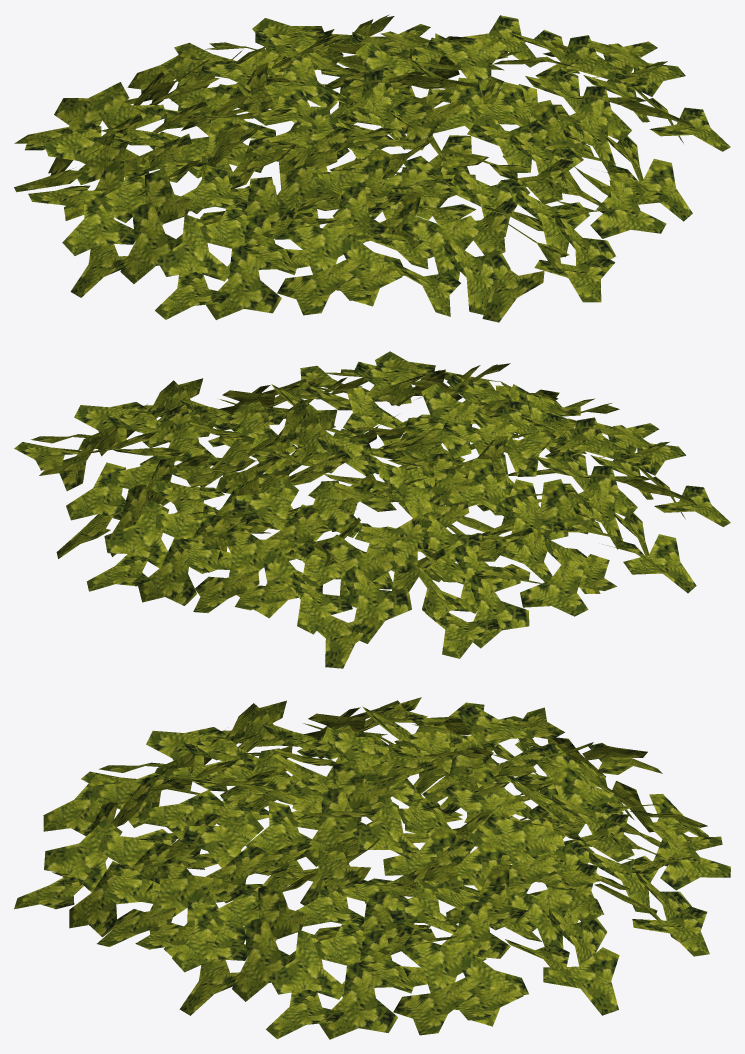
File: hera.fbx
3 views of the same model, one above another, from view 1: azimuth 30°, elevation 25°; view 2: azimuth 150°, elevation 25°; view 3: azimuth 270°, elevation 25° (orthographic). The views are drawn at different scales.
Parts seen in each view (by area): view 1: MH_Moss01_01_Shape; view 2: MH_Moss01_01_Shape; view 3: MH_Moss01_01_Shape.
Part boxes in pixels (<box>): MH_Moss01_01_Shape: <box>14,14,730,322</box>; MH_Moss01_01_Shape: <box>14,351,730,668</box>; MH_Moss01_01_Shape: <box>14,697,730,1039</box>.
Bounding box in the file's own units: 10.78 × 1.9 × 9.89.
1 material, 1 textured.
